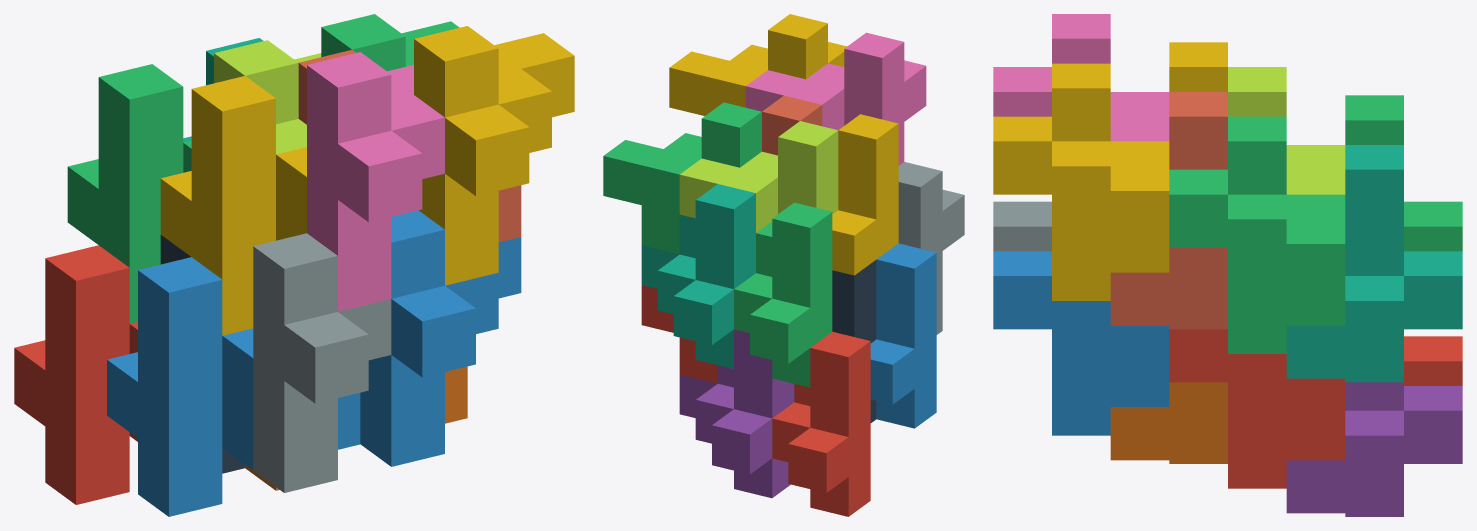
Rendered from tiling.obj.
3 renders of one model, left to right at view 1: azimuth 30°, elevation 25°; view 2: azimuth 150°, elevation 25°; view 3: azimuth 270°, elevation 25°, orthographic. The views are drawn at different scales.
Parts seen in each view (by area): view 1: copy_1_domain_2, copy_2_domain_8, copy_2_domain_4, copy_2_domain_2, copy_1_domain_4, copy_1_domain_1, copy_2_domain_6, copy_1_domain_3, copy_2_domain_3, copy_2_domain_7, copy_1_domain_8, copy_1_domain_6 (+1 smaller); view 2: copy_1_domain_1, copy_1_domain_3, copy_1_domain_7, copy_1_domain_2, copy_1_domain_5, copy_2_domain_7, copy_2_domain_4, copy_1_domain_4, copy_2_domain_3, copy_2_domain_8, copy_2_domain_2, copy_2_domain_1 (+2 smaller); view 3: copy_2_domain_8, copy_2_domain_7, copy_1_domain_7, copy_2_domain_6, copy_2_domain_5, copy_1_domain_5, copy_1_domain_8, copy_2_domain_4, copy_1_domain_6, copy_1_domain_3, copy_2_domain_3, copy_2_domain_2 (+2 smaller).
Boxes of the visible parts, x1,y1,x2,y2 form: copy_1_domain_2: [107, 257, 360, 516]; copy_2_domain_8: [414, 26, 574, 285]; copy_2_domain_4: [307, 52, 444, 311]; copy_2_domain_2: [253, 233, 391, 492]; copy_1_domain_4: [160, 76, 306, 335]; copy_1_domain_1: [14, 245, 137, 504]; copy_2_domain_6: [360, 210, 521, 466]; copy_1_domain_3: [67, 64, 191, 323]; copy_2_domain_3: [214, 40, 321, 154]; copy_2_domain_7: [321, 14, 459, 71]; copy_1_domain_8: [298, 50, 521, 242]; copy_1_domain_6: [245, 366, 467, 490]; copy_1_domain_1: [772, 331, 870, 516]; copy_1_domain_3: [734, 202, 832, 387]; copy_1_domain_7: [641, 184, 755, 368]; copy_1_domain_2: [870, 243, 936, 428]; copy_1_domain_5: [679, 329, 794, 498]; copy_2_domain_7: [603, 102, 761, 254]; copy_2_domain_4: [745, 32, 926, 165]; copy_1_domain_4: [832, 114, 898, 275]; copy_2_domain_3: [679, 121, 838, 232]; copy_2_domain_8: [669, 14, 846, 115]; copy_2_domain_2: [898, 162, 964, 334]; copy_2_domain_1: [832, 260, 876, 422]; copy_2_domain_8: [993, 63, 1169, 300]; copy_2_domain_7: [1169, 116, 1345, 353]; copy_1_domain_7: [1286, 145, 1462, 382]; copy_2_domain_6: [993, 251, 1169, 435]; copy_2_domain_5: [1169, 329, 1345, 488]; copy_1_domain_5: [1286, 382, 1462, 516]; copy_1_domain_8: [1110, 92, 1227, 329]; copy_2_domain_4: [993, 14, 1169, 141]; copy_1_domain_6: [1110, 382, 1227, 463]; copy_1_domain_3: [1345, 95, 1462, 251]; copy_2_domain_3: [1228, 67, 1345, 194]; copy_2_domain_2: [993, 201, 1051, 251].
Bounding box in the file's own units: 7 × 9 × 8.
